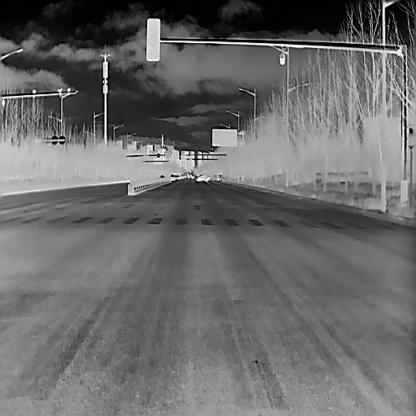car: (195, 173, 209, 180), (169, 173, 175, 181), (190, 172, 194, 178), (159, 173, 164, 177)
